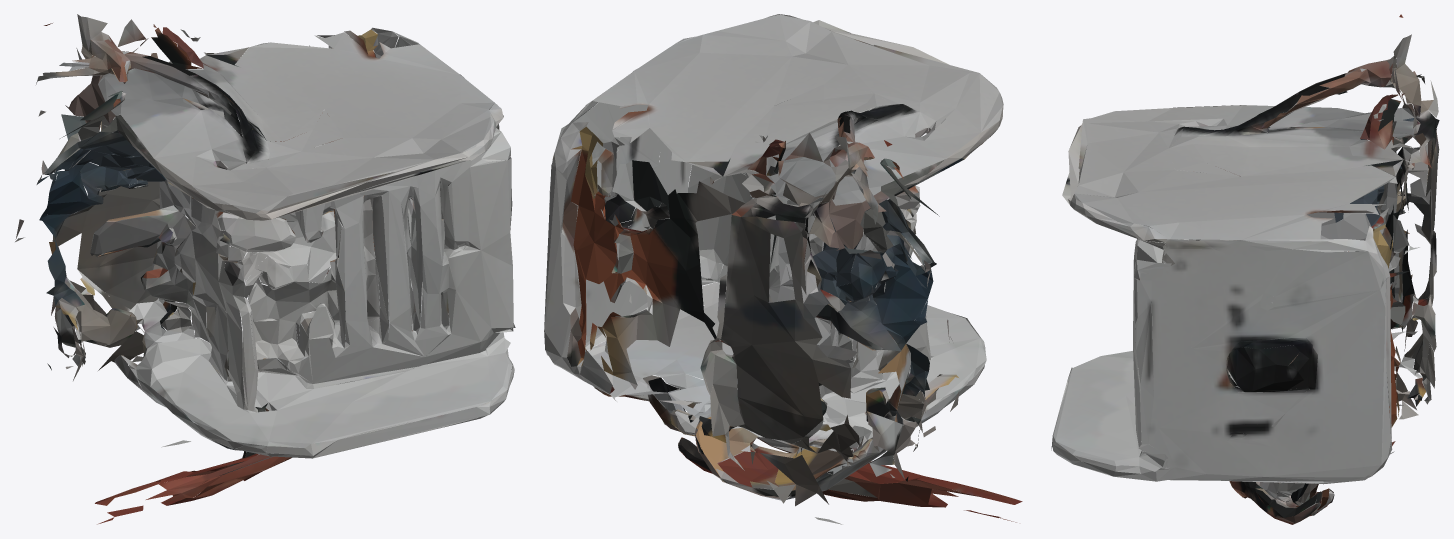
Rendered from head_tilt.obj.
3 renders of one model, left to right at view 1: azimuth 30°, elevation 25°; view 2: azimuth 150°, elevation 25°; view 3: azimuth 270°, elevation 25°, orthographic. The views are drawn at different scales.
Parts seen in each view (by area): view 1: geometry_0; view 2: geometry_0; view 3: geometry_0.
Boxes of the visible parts, x1,y1,x2,y2 form: geometry_0: [15, 14, 515, 524]; geometry_0: [544, 14, 1022, 524]; geometry_0: [1051, 14, 1439, 524].
Size of the model in its own units: 0.0653 by 0.0669 by 0.0564.
Materials: 1 (1 with a texture image).
